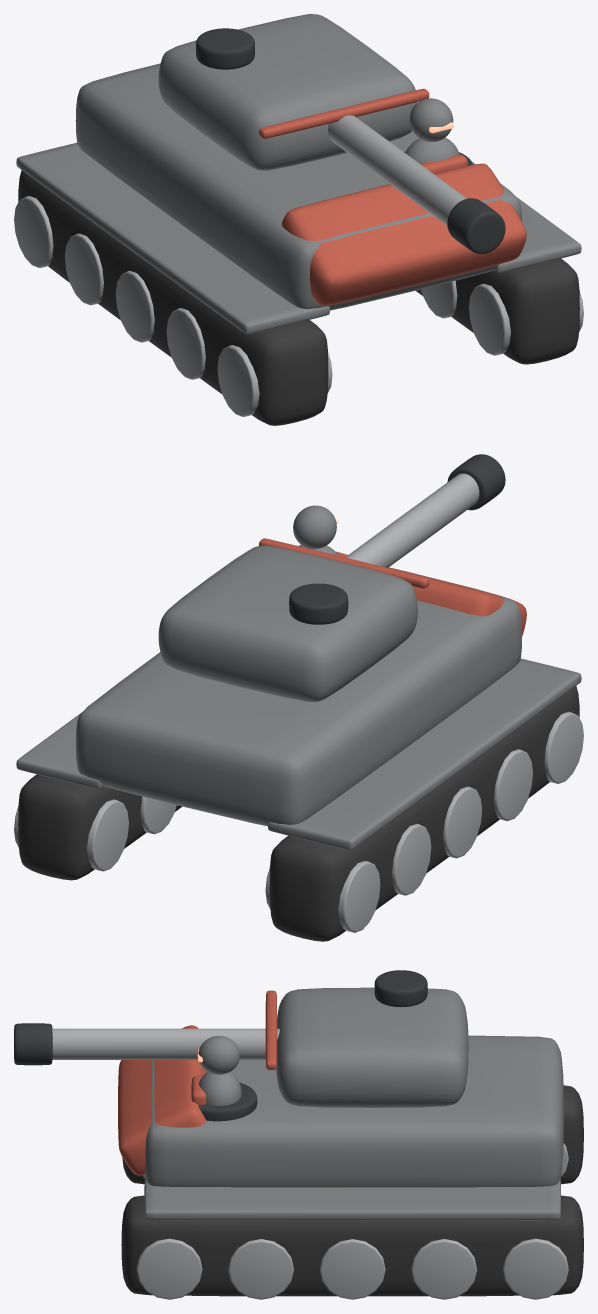
File: vehicle_lighttank.glb
3 renders of one model, top to bottom at view 1: azimuth 30°, elevation 25°; view 2: azimuth 150°, elevation 25°; view 3: azimuth 270°, elevation 25°, orthographic. The views are drawn at different scales.
Visible parts, largest first — view 1: Cube.004, Cube.009, Cube.005, Cube.002, Cube.003, Cube, Cylinder.012, Cube.001, Cylinder, Cylinder.005, Cylinder.013, Cylinder.009 (+9 smaller); view 2: Cube.004, Cube.009, Cube.002, Cube.003, Cube, Cylinder.012, Cube.001, Cylinder.004, Cylinder.009, Cube.005, Cylinder.005, Cylinder.008 (+7 smaller); view 3: Cube.004, Cube.009, Cube, Cube.001, Cube.005, Cylinder.012, Cylinder.004, Cylinder, Cylinder.001, Cylinder.003, Cylinder.002, Cube.002 (+6 smaller).
Boxes of the visible parts, x1=… form: Cube.004: x1=75, y1=63, x2=521, y2=310; Cube.009: x1=158, y1=14, x2=417, y2=170; Cube.005: x1=281, y1=163, x2=526, y2=305; Cube.002: x1=18, y1=170, x2=328, y2=425; Cube.003: x1=16, y1=142, x2=329, y2=334; Cube: x1=415, y1=258, x2=579, y2=364; Cylinder.012: x1=328, y1=115, x2=466, y2=225; Cube.001: x1=494, y1=197, x2=581, y2=273; Cylinder: x1=469, y1=283, x2=583, y2=355; Cylinder.005: x1=217, y1=345, x2=332, y2=416; Cylinder.013: x1=447, y1=198, x2=505, y2=254; Cylinder.009: x1=14, y1=196, x2=53, y2=267; Cube.004: x1=75, y1=567, x2=522, y2=826; Cube.009: x1=158, y1=545, x2=417, y2=701; Cube.002: x1=269, y1=686, x2=579, y2=941; Cube.003: x1=268, y1=658, x2=581, y2=850; Cube: x1=18, y1=774, x2=182, y2=880; Cylinder.012: x1=345, y1=473, x2=479, y2=567; Cube.001: x1=16, y1=712, x2=103, y2=788; Cylinder.004: x1=14, y1=799, x2=128, y2=871; Cylinder.009: x1=265, y1=861, x2=380, y2=932; Cube.005: x1=388, y1=567, x2=526, y2=635; Cylinder.005: x1=544, y1=711, x2=583, y2=783; Cylinder.008: x1=392, y1=823, x2=431, y2=895; Cube.004: x1=144, y1=1035, x2=563, y2=1187; Cube.009: x1=276, y1=987, x2=468, y2=1107; Cube: x1=121, y1=1195, x2=583, y2=1296; Cube.001: x1=144, y1=1178, x2=560, y2=1220; Cube.005: x1=118, y1=1025, x2=207, y2=1175; Cylinder.012: x1=52, y1=1028, x2=279, y2=1059; Cylinder.004: x1=503, y1=1238, x2=568, y2=1299; Cylinder: x1=136, y1=1238, x2=202, y2=1299; Cylinder.001: x1=228, y1=1239, x2=293, y2=1299; Cylinder.003: x1=411, y1=1239, x2=477, y2=1299; Cylinder.002: x1=320, y1=1239, x2=385, y2=1299; Cube.002: x1=122, y1=1085, x2=583, y2=1184.
Bounding box in the file's own units: 1.81 × 1.33 × 2.94.
2 materials, 2 textured.
